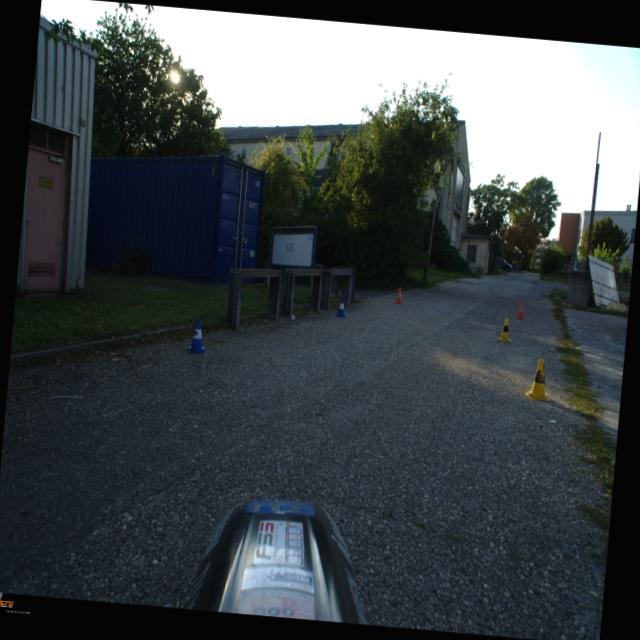blue_cone: (187, 318, 207, 353), (333, 296, 348, 318)
orange_cone: (514, 300, 526, 320), (394, 286, 404, 304)
yellow_cone: (524, 357, 554, 401), (496, 317, 514, 342)
